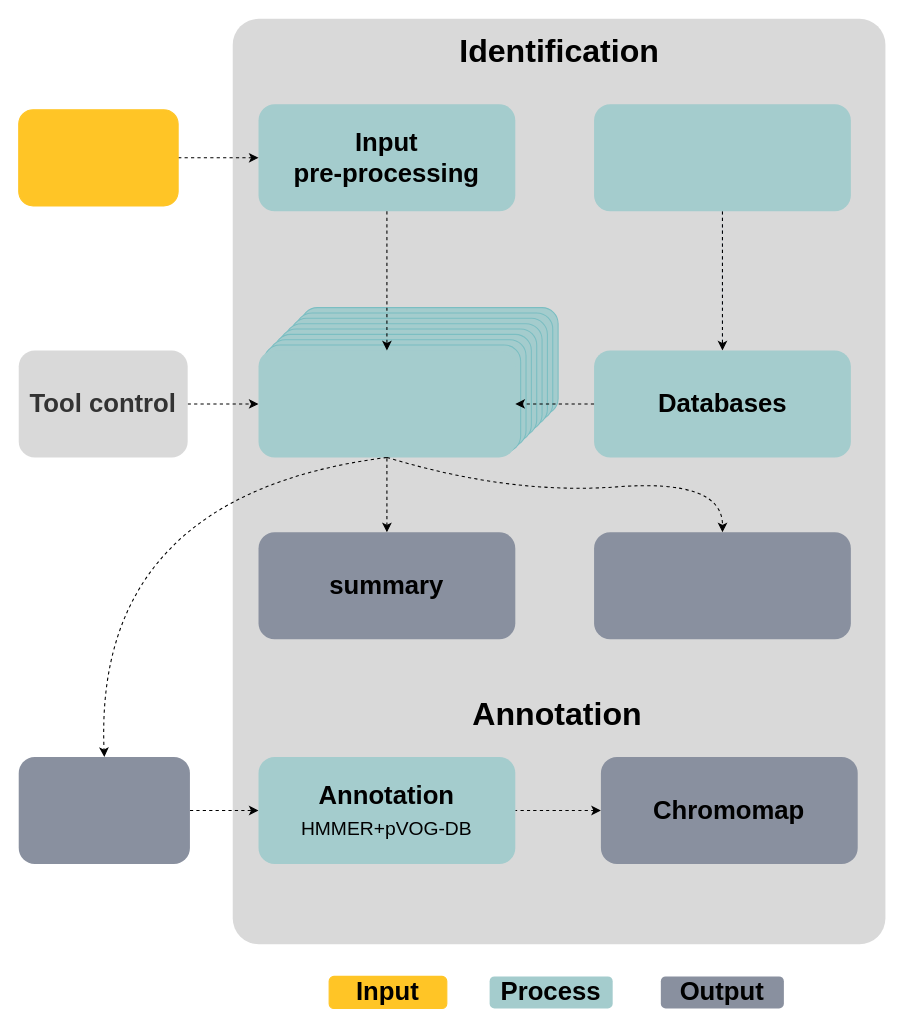
Some shapes in this 904 by 1027 pixel diagram are drawn without their labels. The centre of each missing label's shape, as x and y in pixels:
"Autodownload databases" goes at (722,157).
"Multiple phage- identification tools" goes at (386,403).
"Phage positive contigs" goes at (103,809).
"Raw tool output" goes at (722,585).
"Sequence Input fasta" goes at (98,157).
